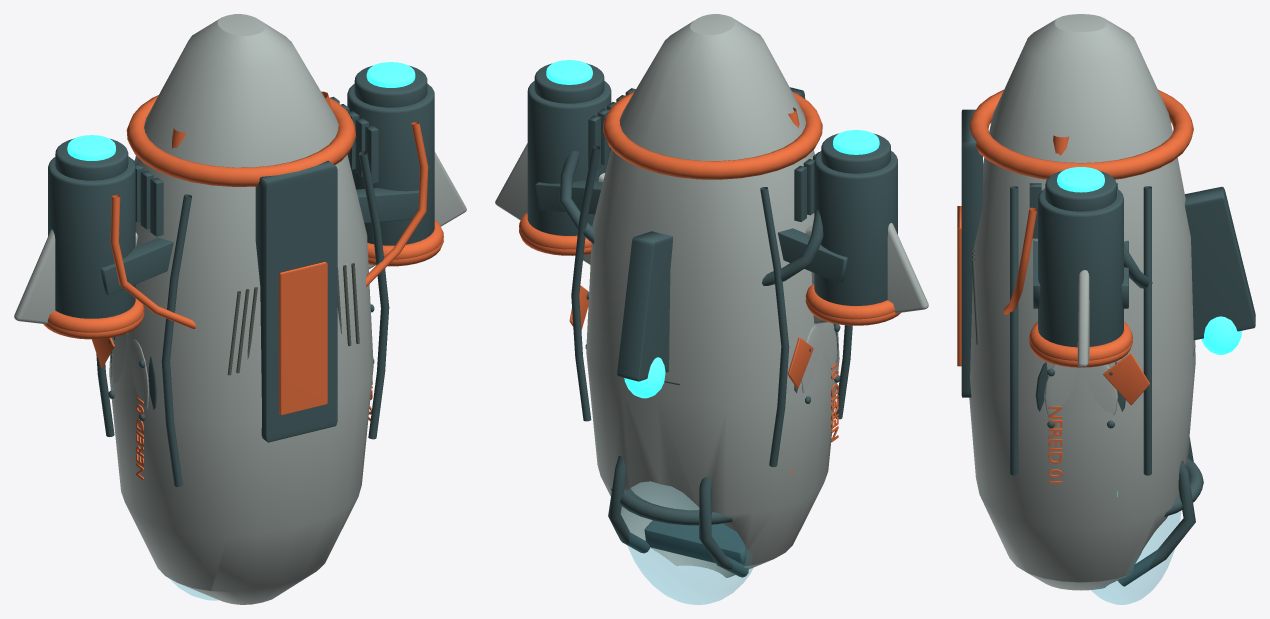
The model's file is nereid-micro-sub.glb.
The picture shows the model from 3 angles, left to right: view 1: azimuth 30°, elevation 25°; view 2: azimuth 150°, elevation 25°; view 3: azimuth 270°, elevation 25°; orthographic projection. The views are drawn at different scales.
Visible parts, largest first — view 1: tapered-pressure-hull, equipment-keel, thruster--1, keel-rescue-stripe, thruster-1, aft-service-ring, pressure-longeron--1--0.56, pressure-longeron-1--0.56, manta-fin--1, load-brace--1--0.32, exhaust-stage-1, exhaust-stage--1 (+14 smaller); view 2: tapered-pressure-hull, thruster--1, canopy, thruster-1, dorsal-sensor, aft-service-ring, instrument-console, pressure-longeron--1-0.56, pressure-longeron-1-0.56, manta-fin--1, load-brace--1-0.32, exhaust-stage-1 (+18 smaller); view 3: tapered-pressure-hull, thruster-1, dorsal-sensor, aft-service-ring, equipment-keel, canopy, pressure-longeron-1-0.56, pressure-longeron-1--0.56, maintenance-hatch-1, canopy-frame-0.49, exhaust-stage-1, thruster-shroud-1 (+11 smaller).
Part boxes in pixels (box(x1,y1,x2,y2)): tapered-pressure-hull: box(109, 14, 373, 604); equipment-keel: box(255, 160, 337, 442); thruster--1: box(48, 157, 135, 318); keel-rescue-stripe: box(279, 261, 327, 414); thruster-1: box(347, 83, 434, 245); aft-service-ring: box(126, 95, 355, 186); pressure-longeron--1--0.56: box(161, 194, 191, 486); pressure-longeron-1--0.56: box(359, 151, 389, 439); manta-fin--1: box(14, 229, 137, 333); load-brace--1--0.32: box(100, 237, 173, 295); exhaust-stage-1: box(354, 65, 427, 107); exhaust-stage--1: box(55, 138, 128, 180); tapered-pressure-hull: box(586, 14, 839, 577); thruster--1: box(814, 151, 897, 305); canopy: box(621, 482, 753, 604); thruster-1: box(527, 81, 611, 235); dorsal-sensor: box(617, 231, 673, 381); aft-service-ring: box(603, 91, 822, 179); instrument-console: box(644, 520, 746, 564); pressure-longeron--1-0.56: box(760, 187, 789, 467); pressure-longeron-1-0.56: box(571, 145, 600, 421); manta-fin--1: box(805, 223, 928, 323); load-brace--1-0.32: box(778, 228, 847, 283); exhaust-stage-1: box(534, 63, 604, 103); tapered-pressure-hull: box(969, 14, 1195, 590); thruster-1: box(1038, 188, 1123, 347); dorsal-sensor: box(1184, 186, 1255, 340); aft-service-ring: box(969, 89, 1193, 179); equipment-keel: box(961, 109, 982, 397); canopy: box(1091, 511, 1180, 604); pressure-longeron-1-0.56: box(1143, 186, 1151, 475); pressure-longeron-1--0.56: box(1010, 186, 1018, 475); maintenance-hatch-1: box(1044, 364, 1117, 415); canopy-frame-0.49: box(1117, 460, 1195, 586); exhaust-stage-1: box(1045, 170, 1116, 211); thruster-shroud-1: box(1029, 322, 1132, 360).
Size of the model in its own units: 4.28 by 5.32 by 2.5.
